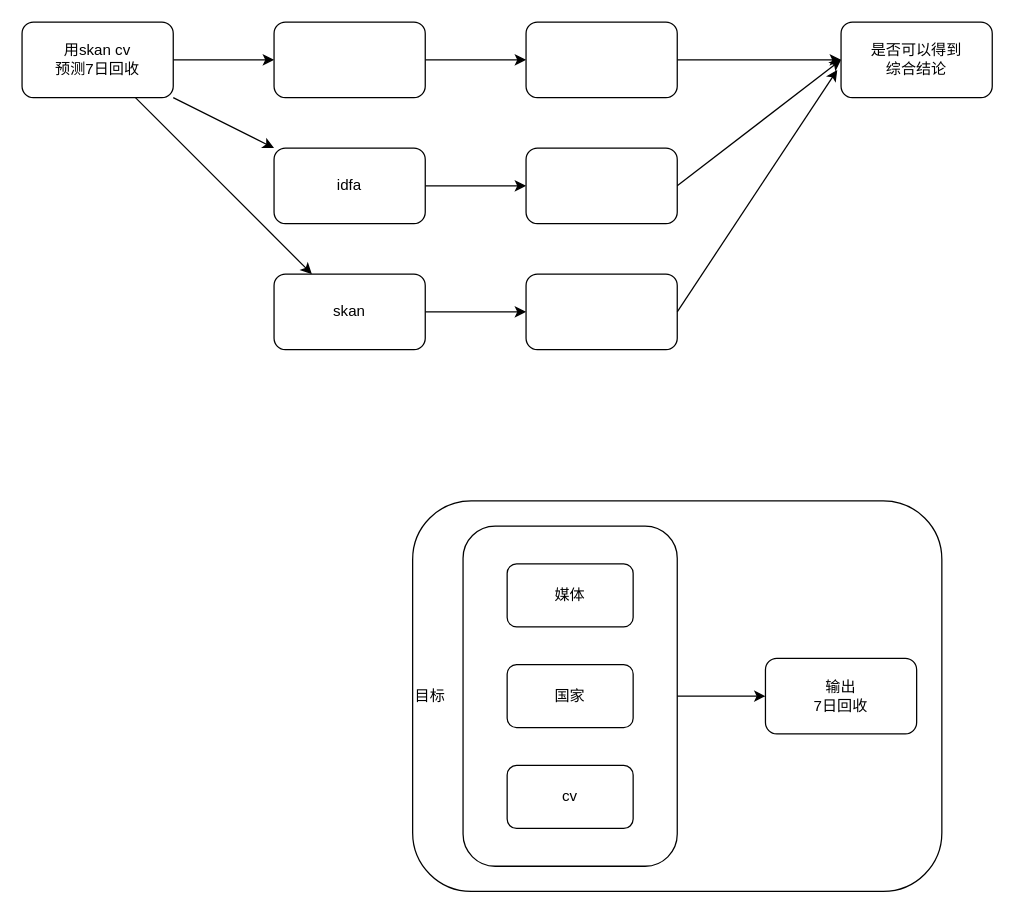
This 1014x914 diagram has some shape labels left out. The shapes that lost their labels are listed below. From the top down, each one's box as (x1, y1, x2, y2) in pixels, then its label:
(273, 21, 425, 98): 大盘
(525, 21, 677, 98): 可分国家
(525, 147, 677, 224): 什么都能分
(525, 273, 677, 350): 分媒体
(462, 525, 677, 866): 输入
